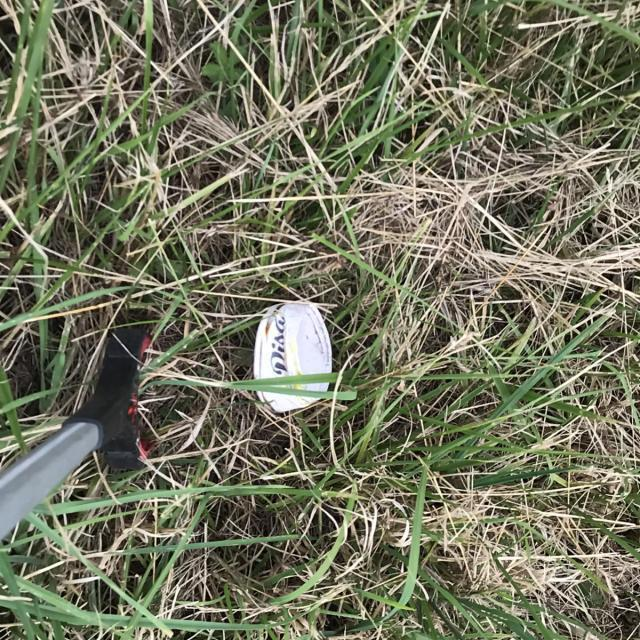Paper: (252, 302, 333, 414)
